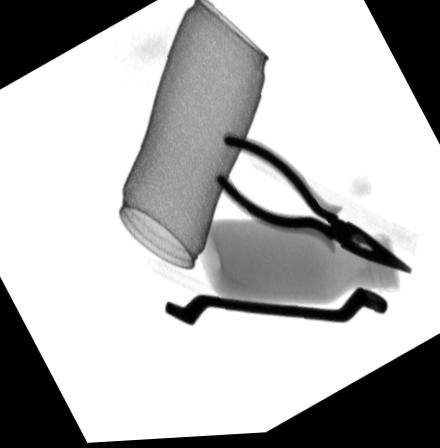Pliers: (214, 135, 412, 283)
Wrench: (159, 288, 387, 330)
